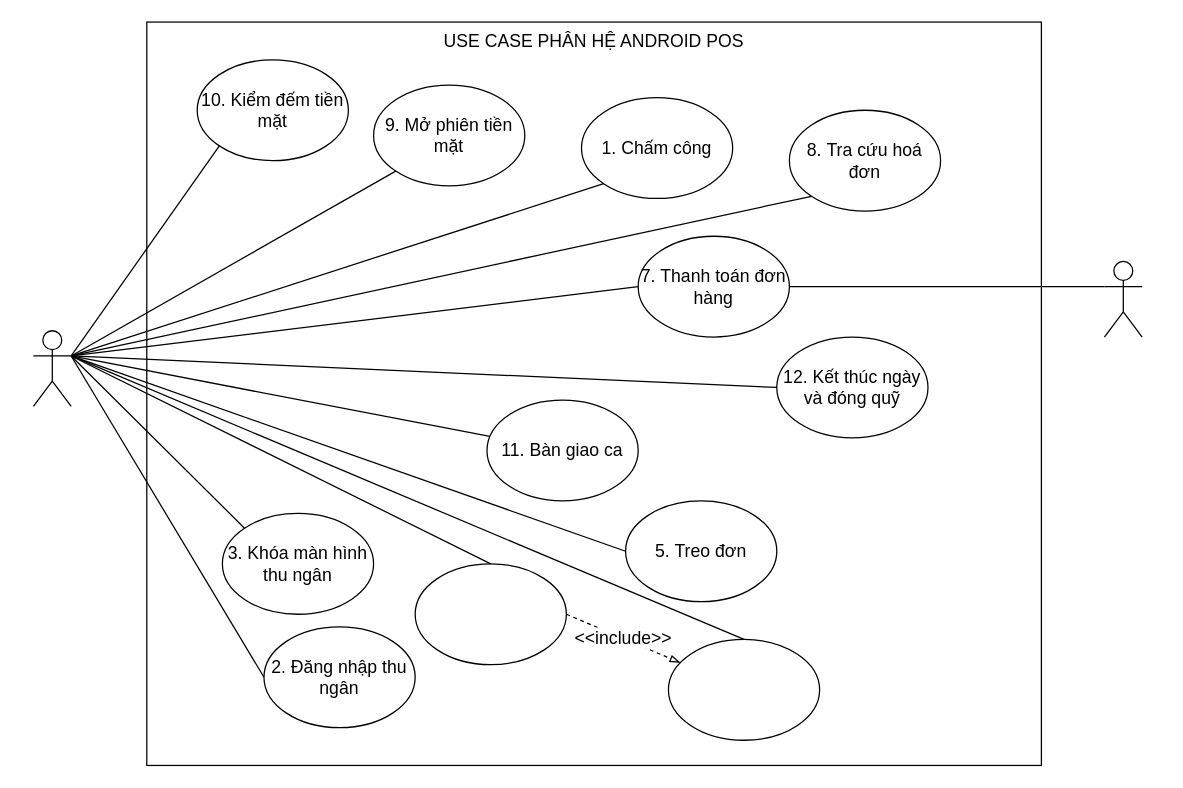
The diagram is 1183 pixels wide and 788 high, and some of its shapes have lost their labels. Here are the shapes that lost their labels. From the top down, the centre of each, then its label:
At point 1122,298: "Customer".
At point 51,367: "Cashier".
At point 490,614: "4. Lập đơn hàng".
At point 743,689: "6. Kiểm tra tồn kho".
